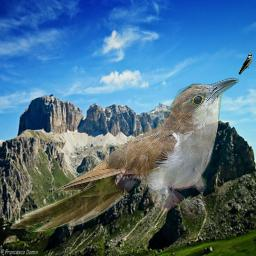Cuckoo: (9, 77, 239, 232)
Swallow: (238, 53, 252, 75)
